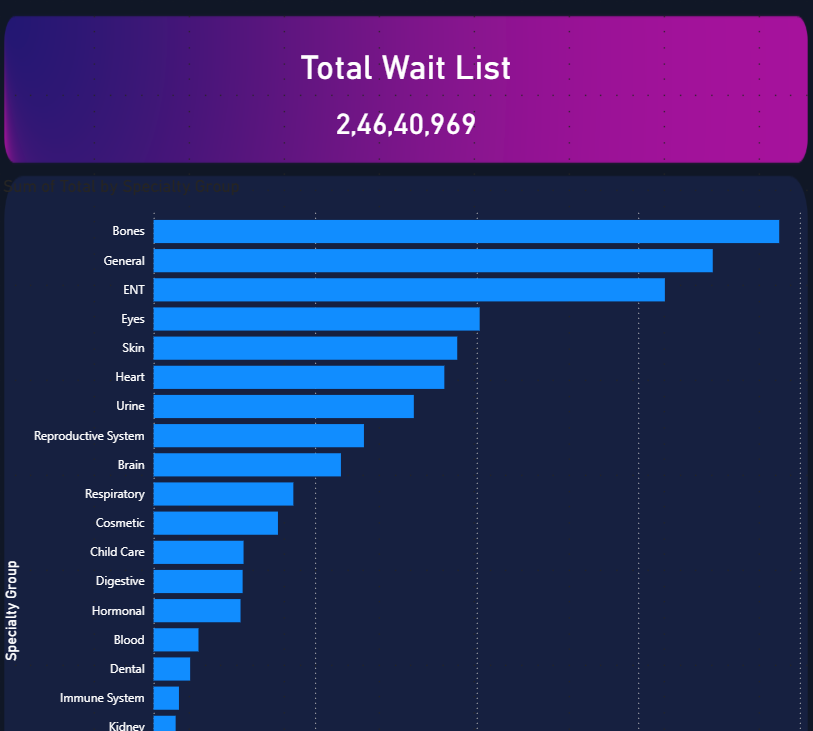

This screenshot's page, from the dashboard's own definition file:
{"tool":"powerbi","page":{"name":"Drill Down","canvas":[816,1056],"ordinal":2},"visuals":[{"type":"barChart","fields":{"Category":["Mapping_Specialty.Specialty Group"],"Y":["Sum(All_Data.Total)"]},"box":[0,176,816,880],"z":0},{"type":"card","title":"Total Wait List","fields":{"Values":["Sum(All_Data.Total)"]},"box":[0,48,816,112],"z":1000}]}

Visuals, with their boxes on the page's 816x1056 design canvas (x1, y1, x2, y2). These are canvas units, not pixel positions in the 813x731 screenshot, which may show the page scaled, cropped or inside an application window:
barChart - Mapping_Specialty.Specialty Group x Sum(All_Data.Total): [x1=0, y1=176, x2=816, y2=1056]
"Total Wait List" card: [x1=0, y1=48, x2=816, y2=160]
